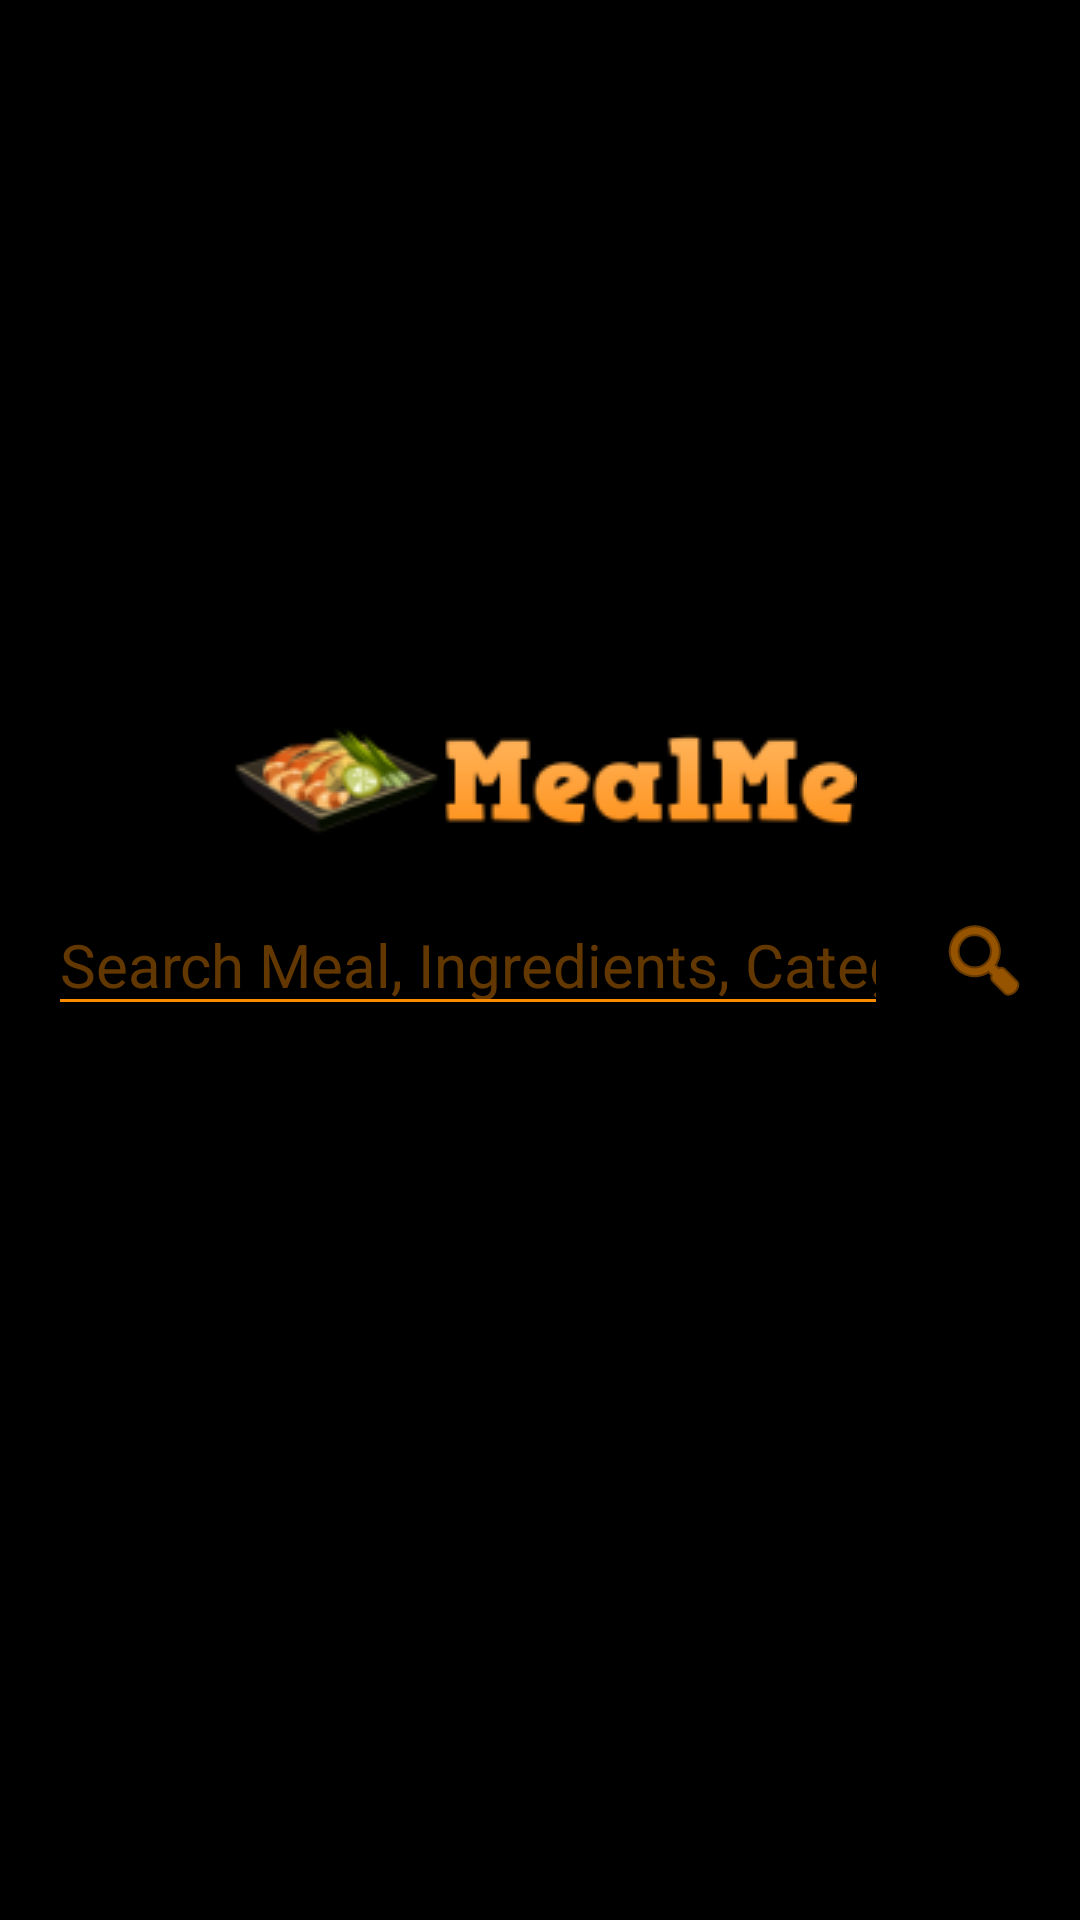

Screen size 1080px×1920px. Icon name, then its box in pixels as [x1=x1, y1=y1, x2=x2, y2=y2]:
Start search: [x1=948, y1=925, x2=1020, y2=996]
